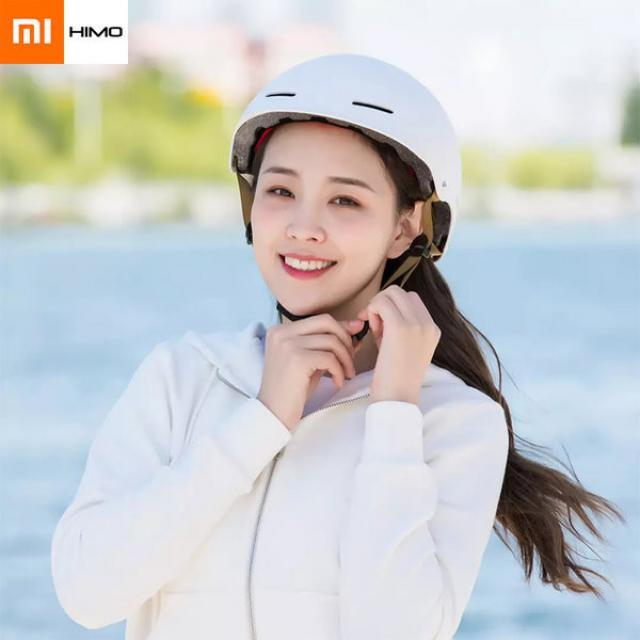Helmet: (226, 50, 463, 317)
